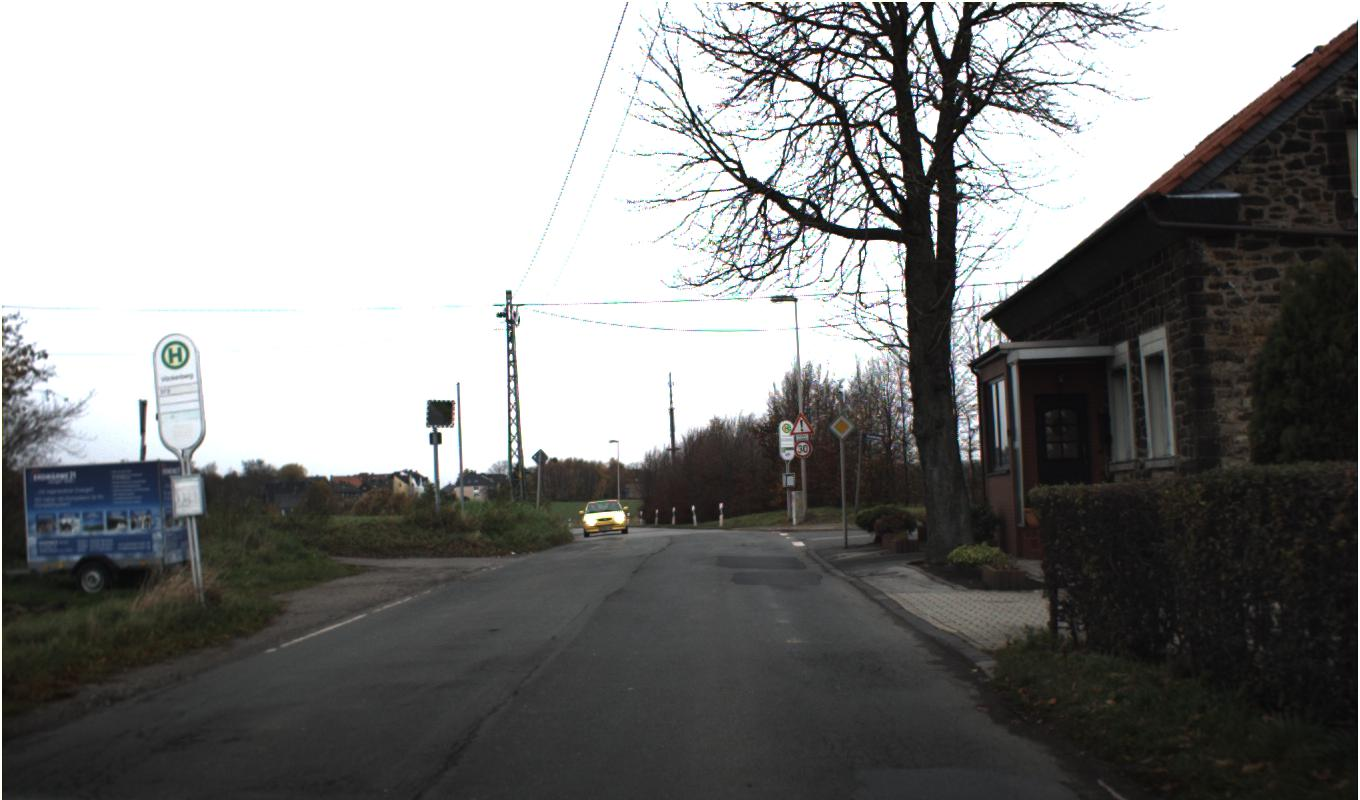danger: (788, 411, 814, 436)
prohibitory: (792, 439, 812, 458)
sign: (827, 412, 855, 441)
